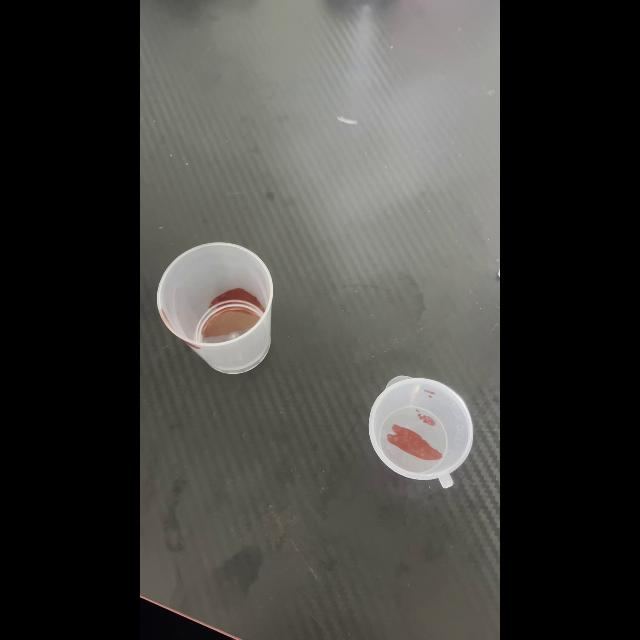dirty: (166, 245, 270, 375), (370, 374, 480, 486)
